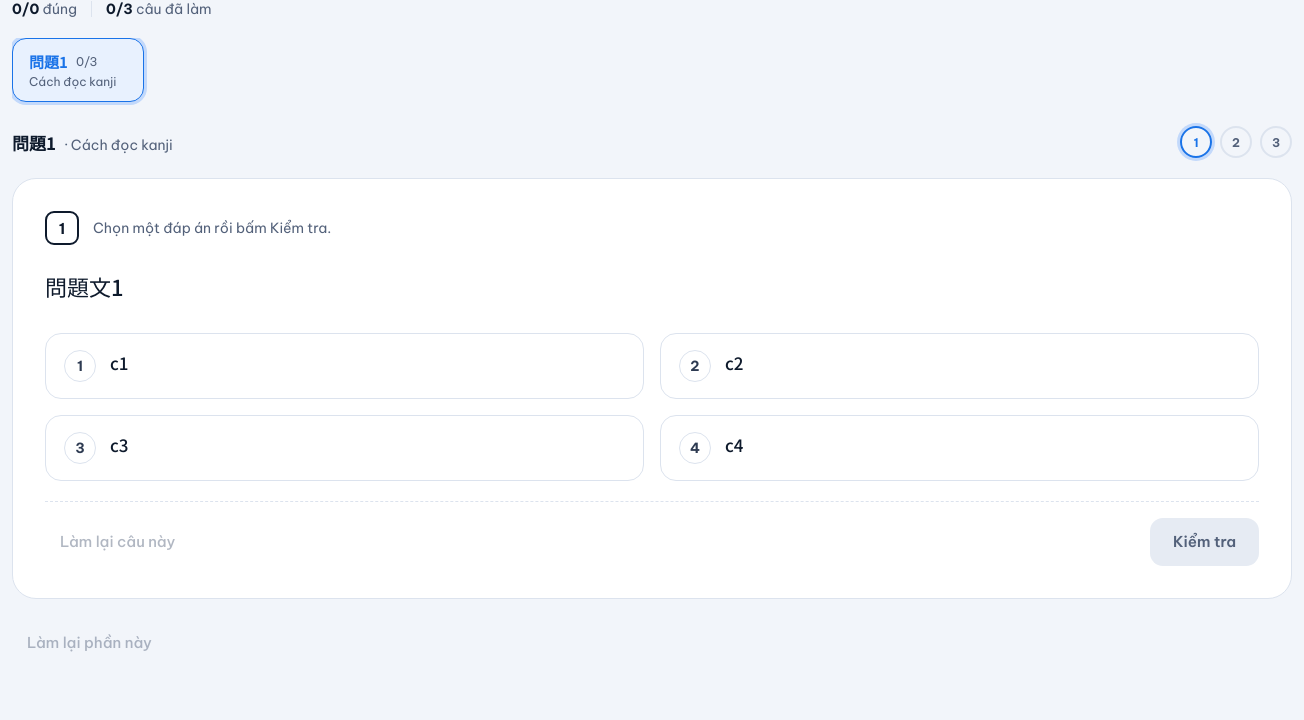
Test: PaperWorkspace › moves on only when asked
The width and height of the screenshot is (1304, 720).
Click the radio button labelled "1 c1" at {"x": 80, "y": 366}, box [45, 333, 644, 399]
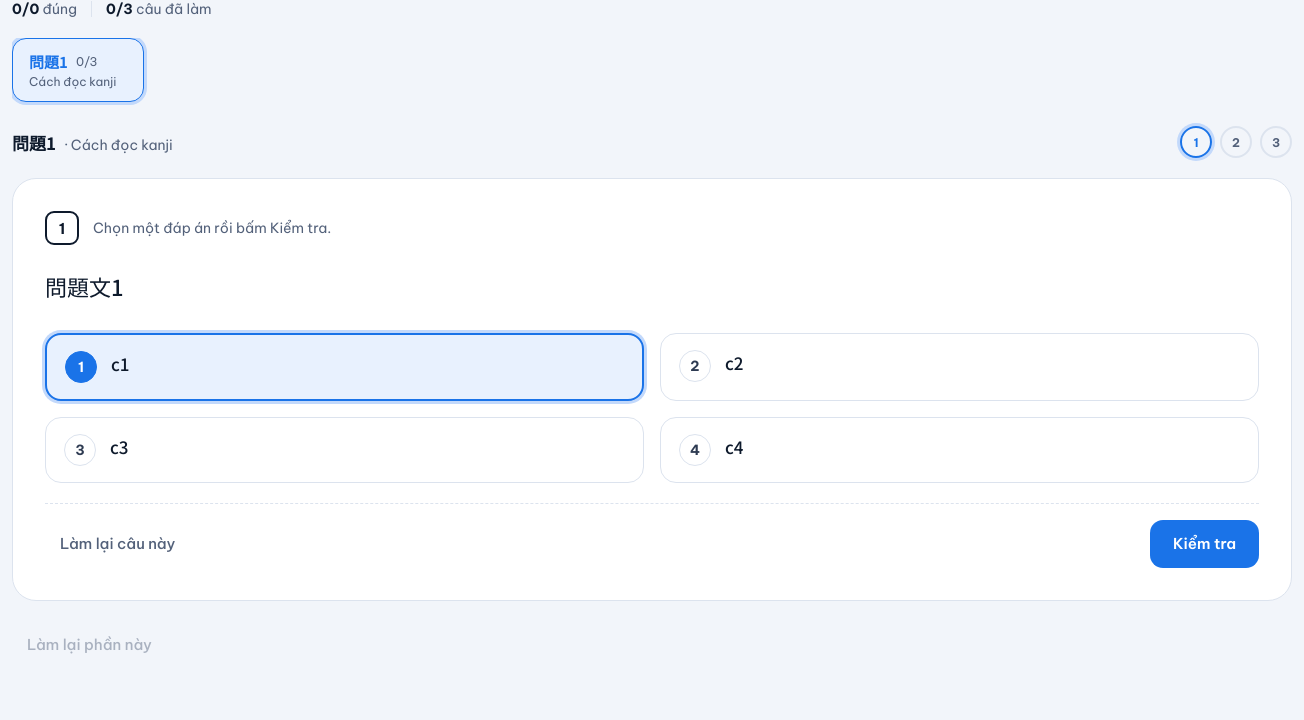
Click the button "Kiểm tra" at {"x": 1204, "y": 544}, box [1150, 520, 1259, 568]
(page scrolled)
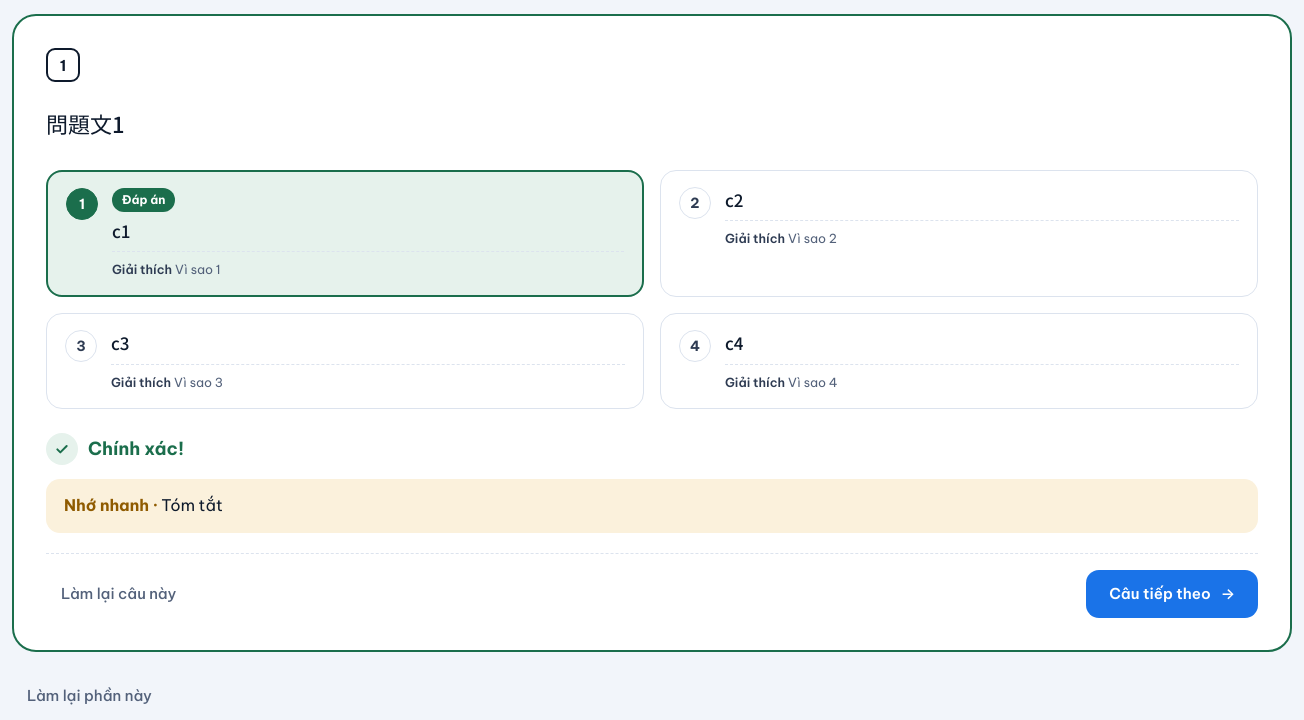
Expected: the text "Vì sao 1" is shown, [175, 261, 221, 277]
Click the button "Câu tiếp theo →" at {"x": 1172, "y": 594}, box [1086, 570, 1258, 618]
(page scrolled)
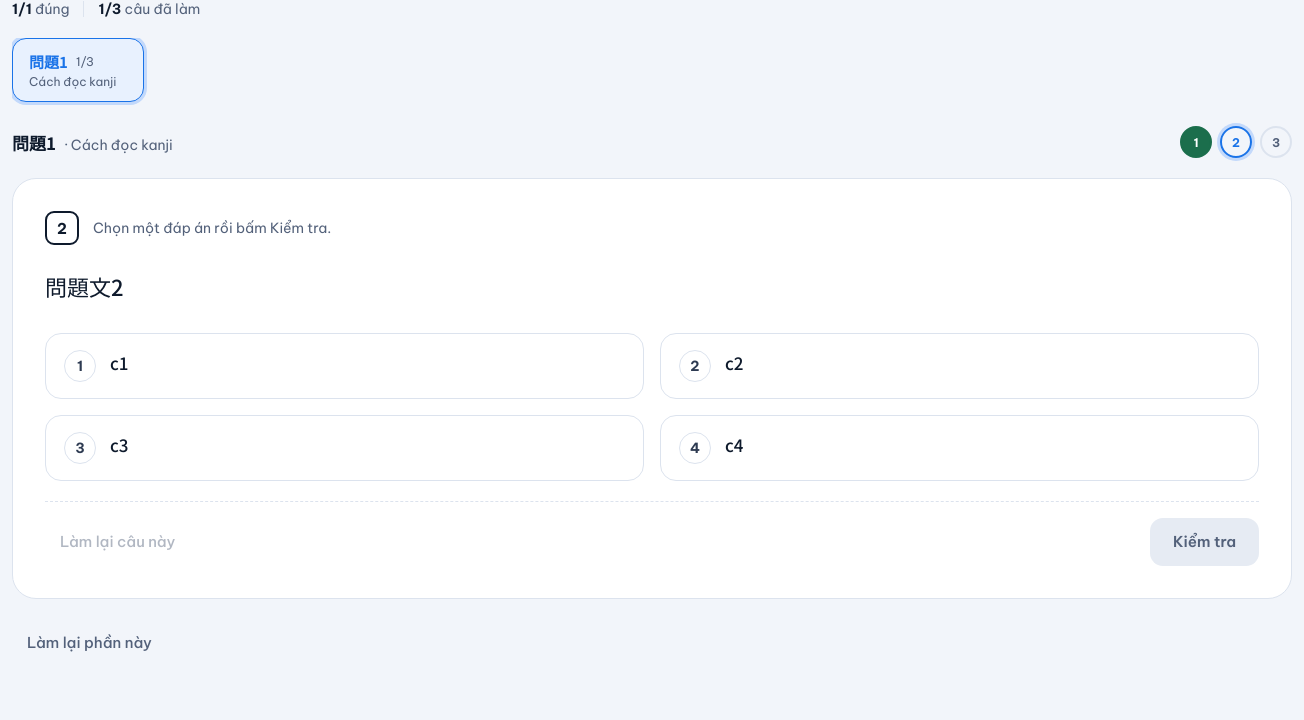
Expected: the text "問題文2" is shown, [45, 270, 124, 302]
